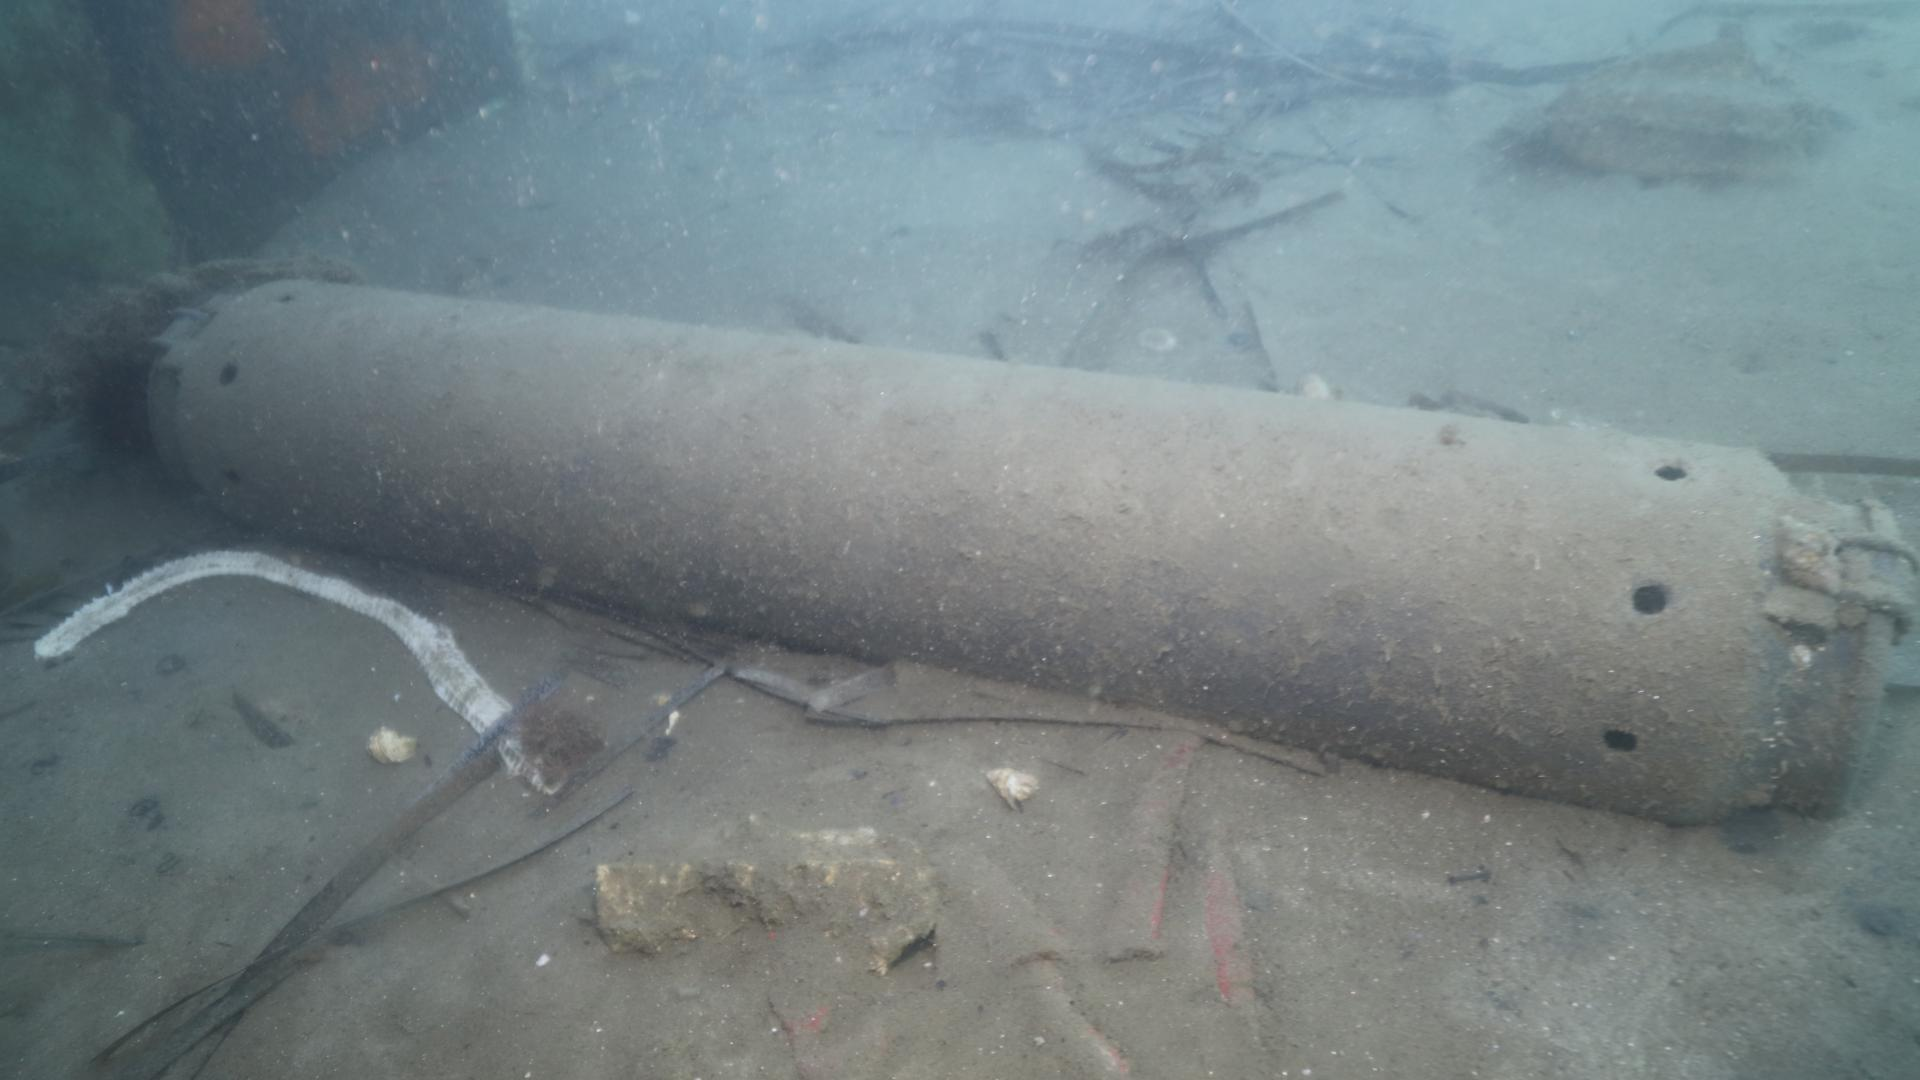eel fish trap: (145, 276, 1919, 825)
